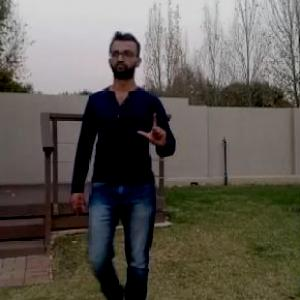land_hand: (133, 108, 173, 153)
